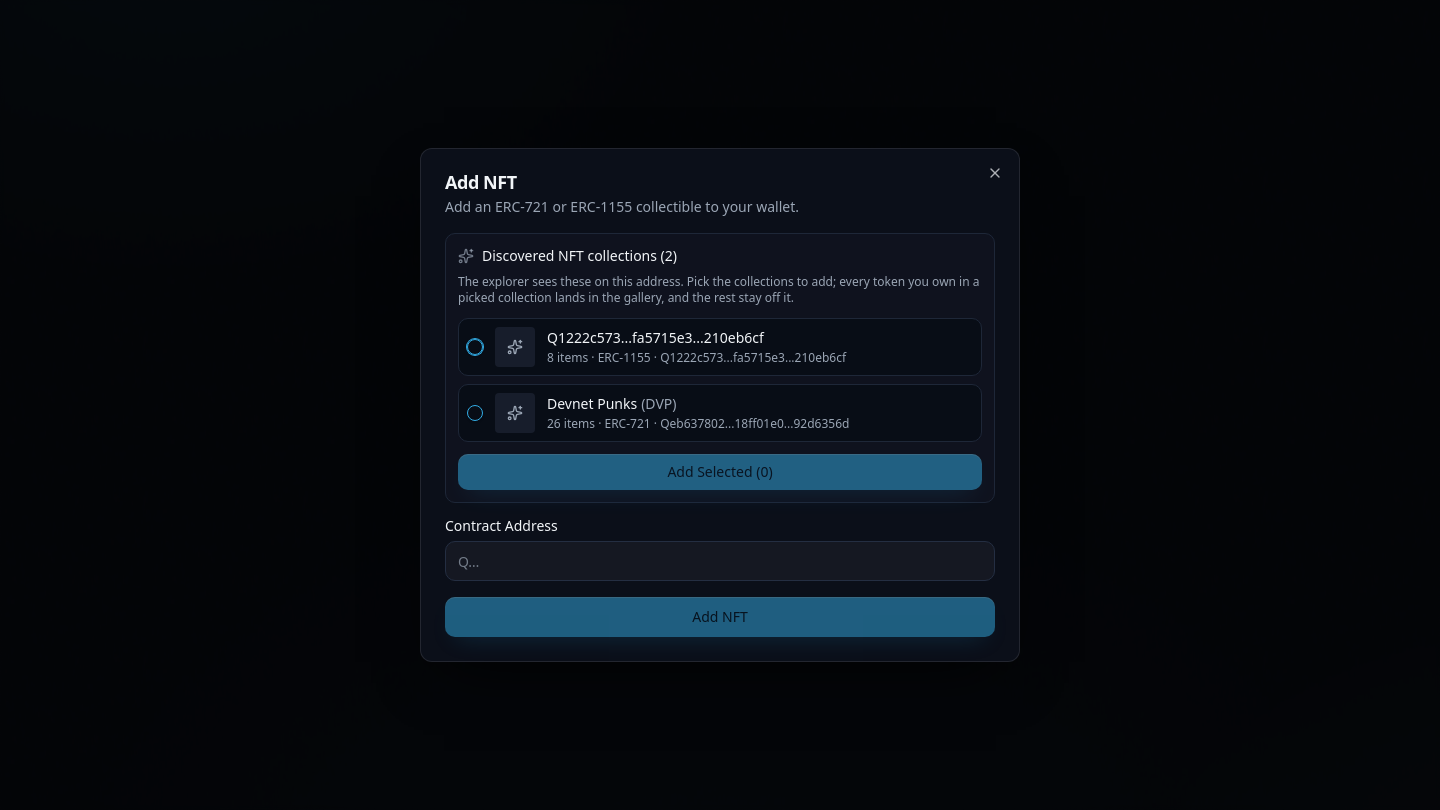
keeps the selected collections available after an add failure
Step 1. Click the checkbox named "Devnet Punks" next to "Devnet Punks" → (475, 413), box [467,405,483,421]
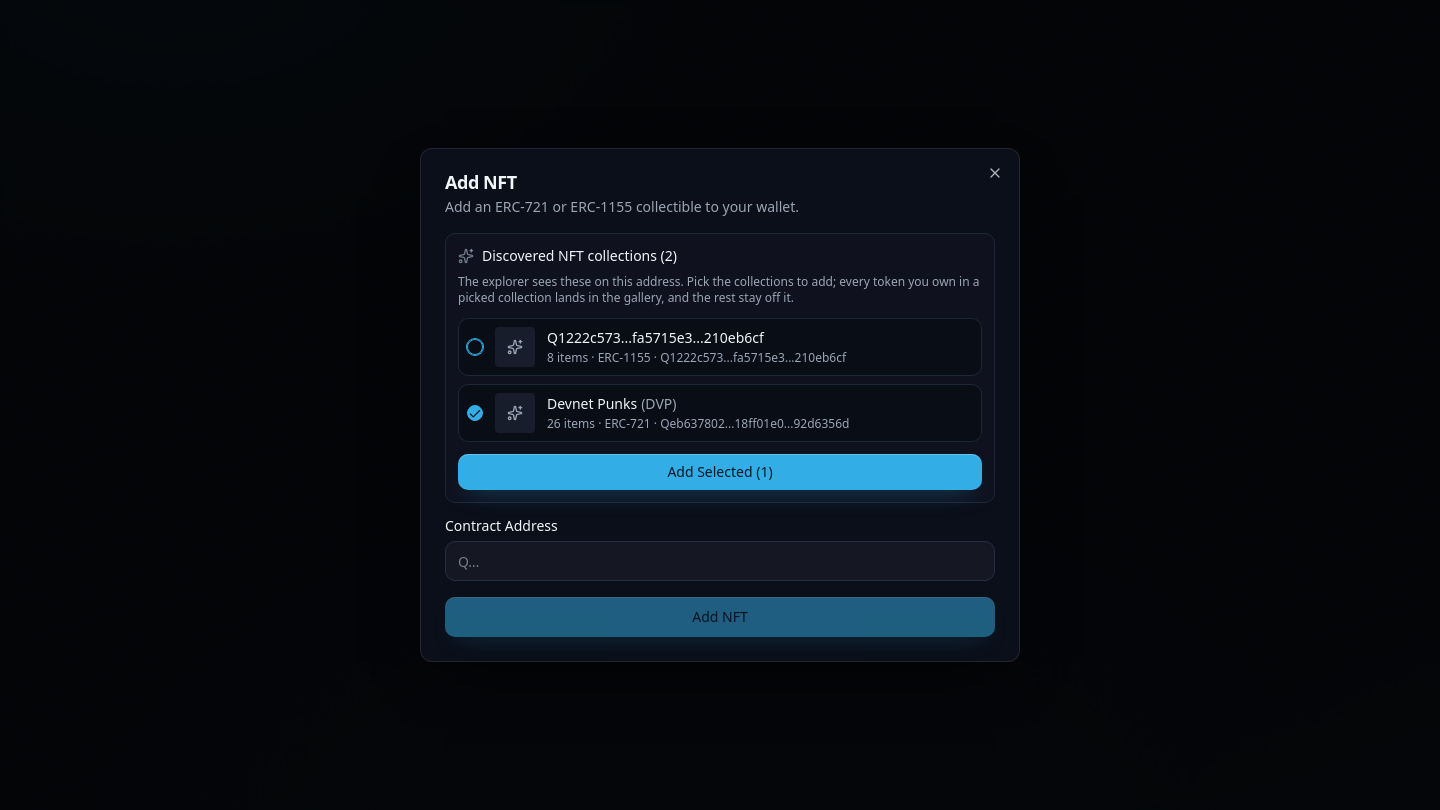
Step 2. Click the button "Add Selected (1)" → (720, 472), box [458,454,982,490]
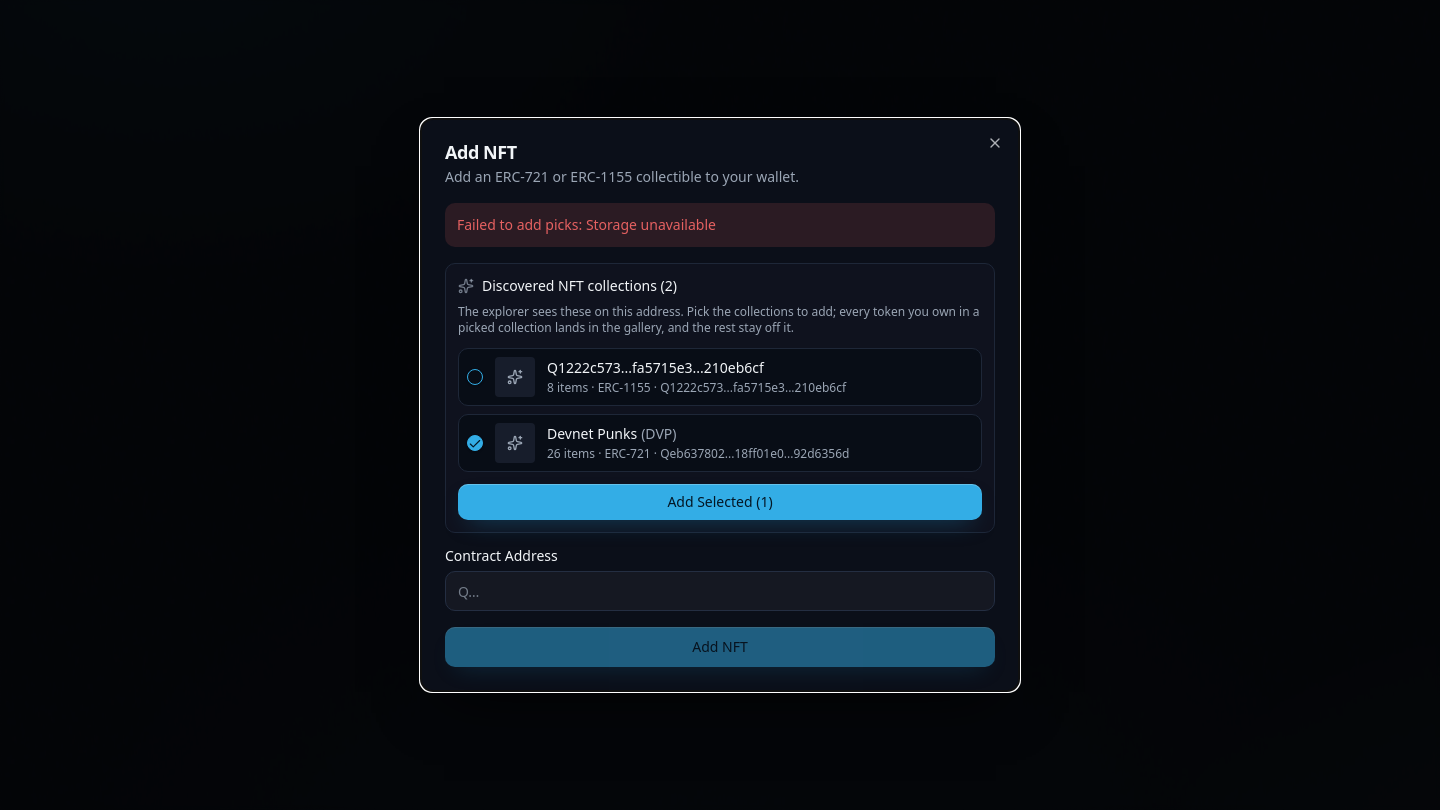
Now the button "Add Selected (1)" is shown, box [458,484,982,520]
Now the message reads "Failed to add picks: Storage unavailable", box [457,215,716,234]
